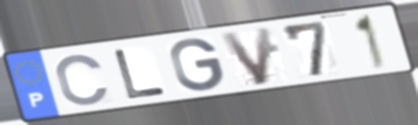1: (353, 10, 388, 72)
7: (279, 20, 333, 79)
C: (53, 52, 112, 107)
G: (168, 37, 227, 94)
L: (110, 47, 170, 101)
V: (217, 24, 275, 88)
